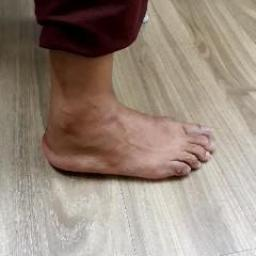Lateral View -Right Foot-: (30, 71, 233, 206)
